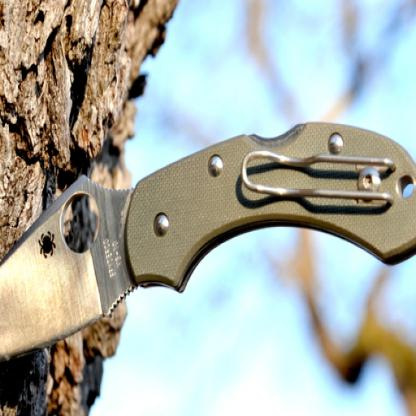knife: (0, 120, 415, 383)
